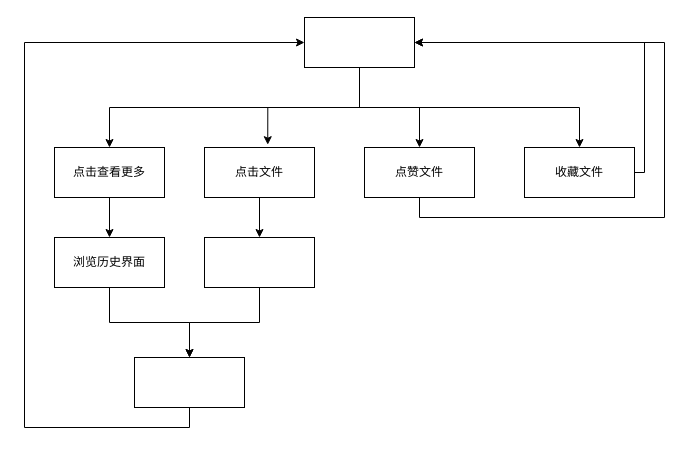
Some shapes in this 690 by 453 pixel diagram are drawn without their labels. Here are the shapes that lost their labels. From the top down, the box of each, then its label:
(304, 16, 414, 68): 进入首页
(204, 236, 314, 288): 文件浏览界面
(134, 356, 244, 408): 点击首页
